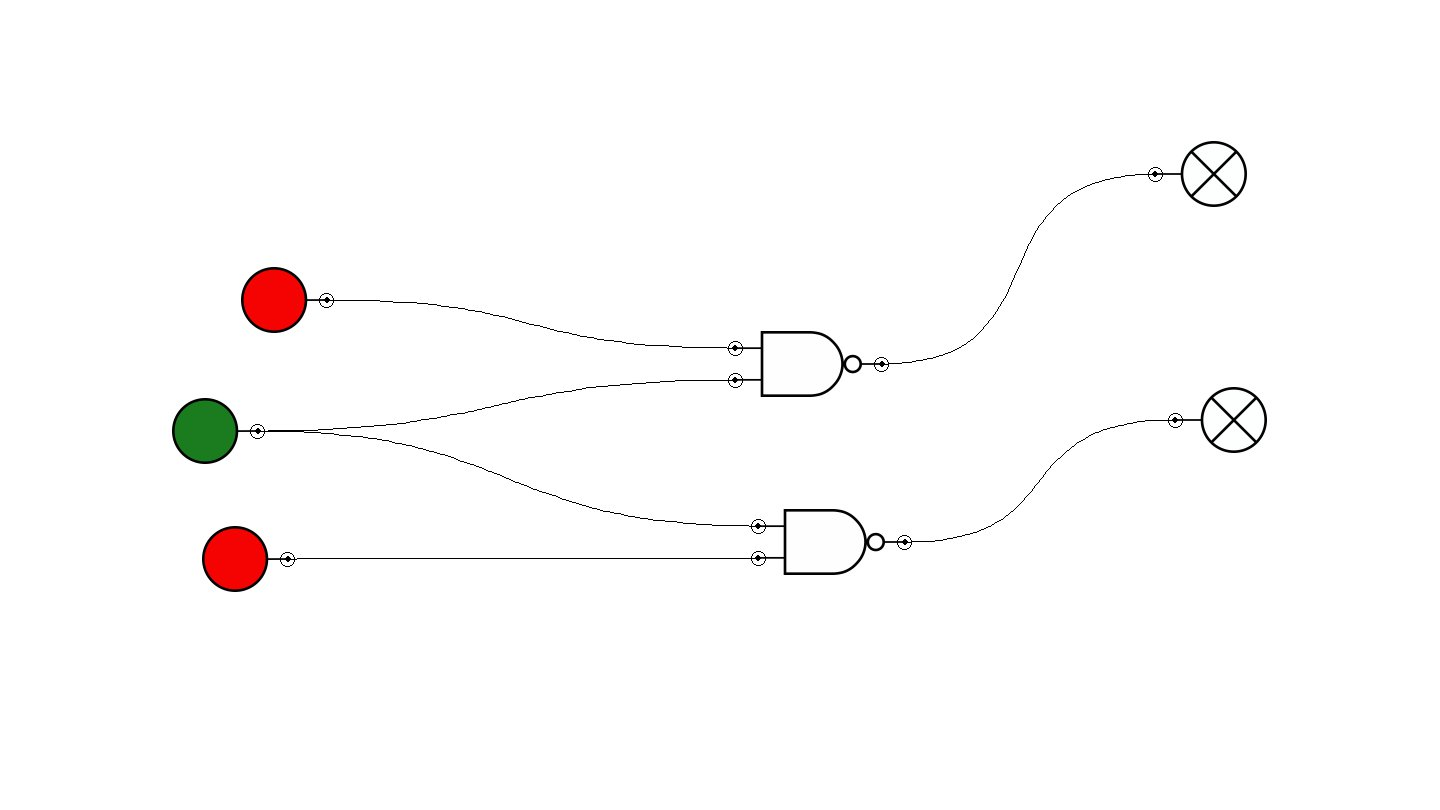bulb: (1168, 387, 1267, 453), (1148, 141, 1247, 207)
nand: (728, 331, 889, 397), (751, 509, 912, 575)
switch_False: (202, 526, 295, 592), (241, 267, 334, 333)
switch_True: (172, 398, 265, 464)
